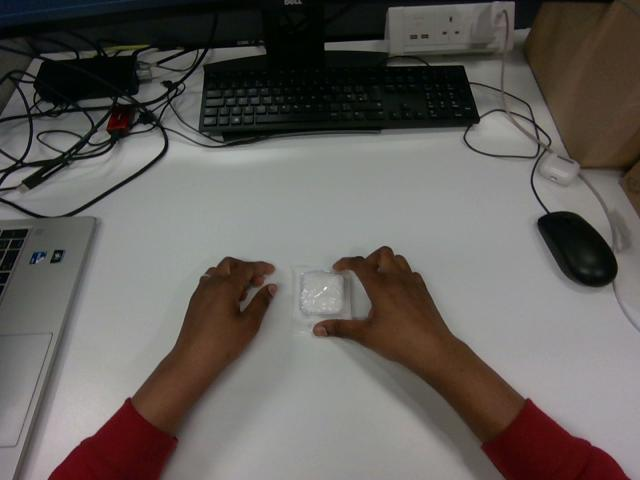gauze: (292, 266, 351, 332)
